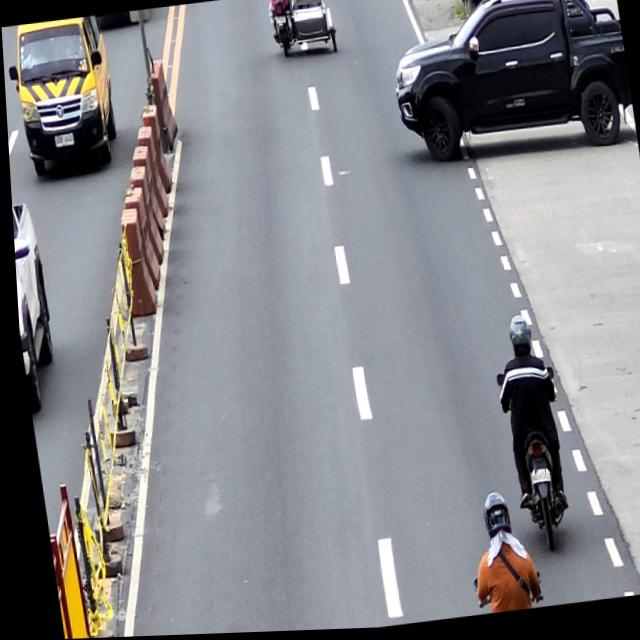Car: (379, 0, 636, 172)
License-Plate: (523, 470, 545, 489), (274, 18, 286, 25)
Motorcycle: (489, 366, 573, 561)
Tricycle: (267, 0, 339, 62)
